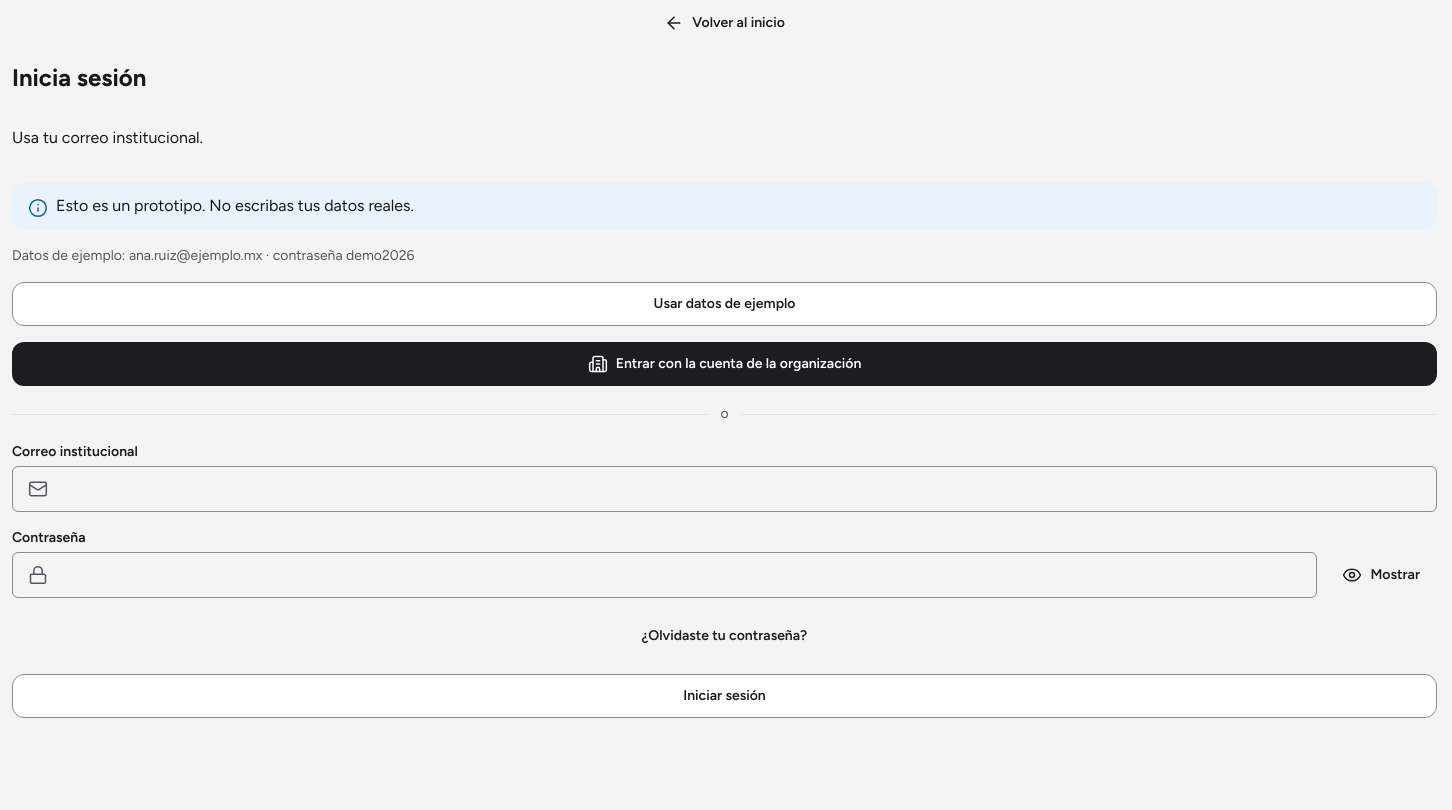
Test: A1 sign-in view › S-A1-6: the forgot-password button announces the prototype message and stays on A1
Click the button "¿Olvidaste tu contraseña?". click: (724, 636)
box: [12,614,1437,658]
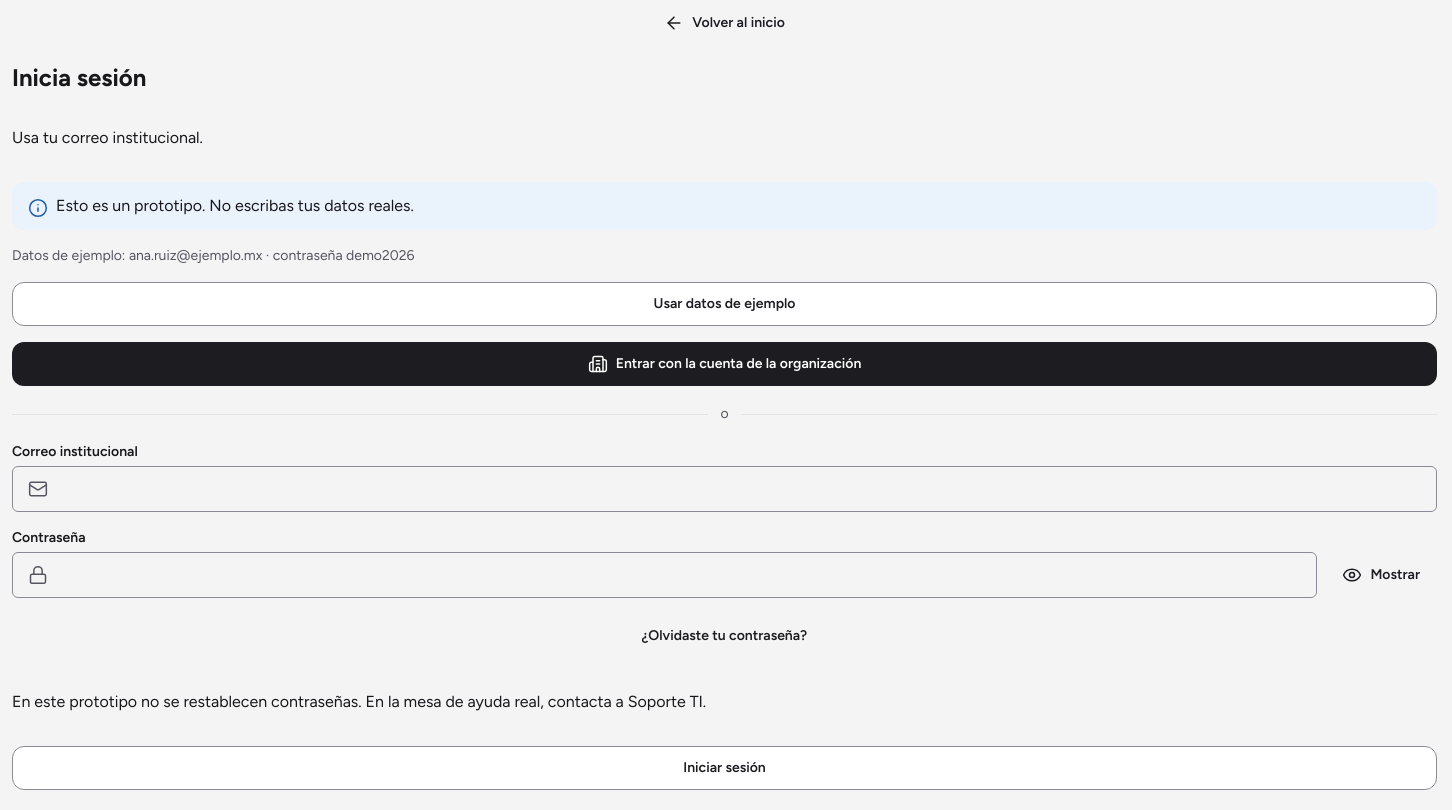
Check: the heading "Inicia sesión" is shown, box [12,63,146,92]
Check: the message shows "En este prototipo no se restablecen contraseñas. En la mesa de ayuda real, contacta a Soporte TI.", box [12,692,706,711]
